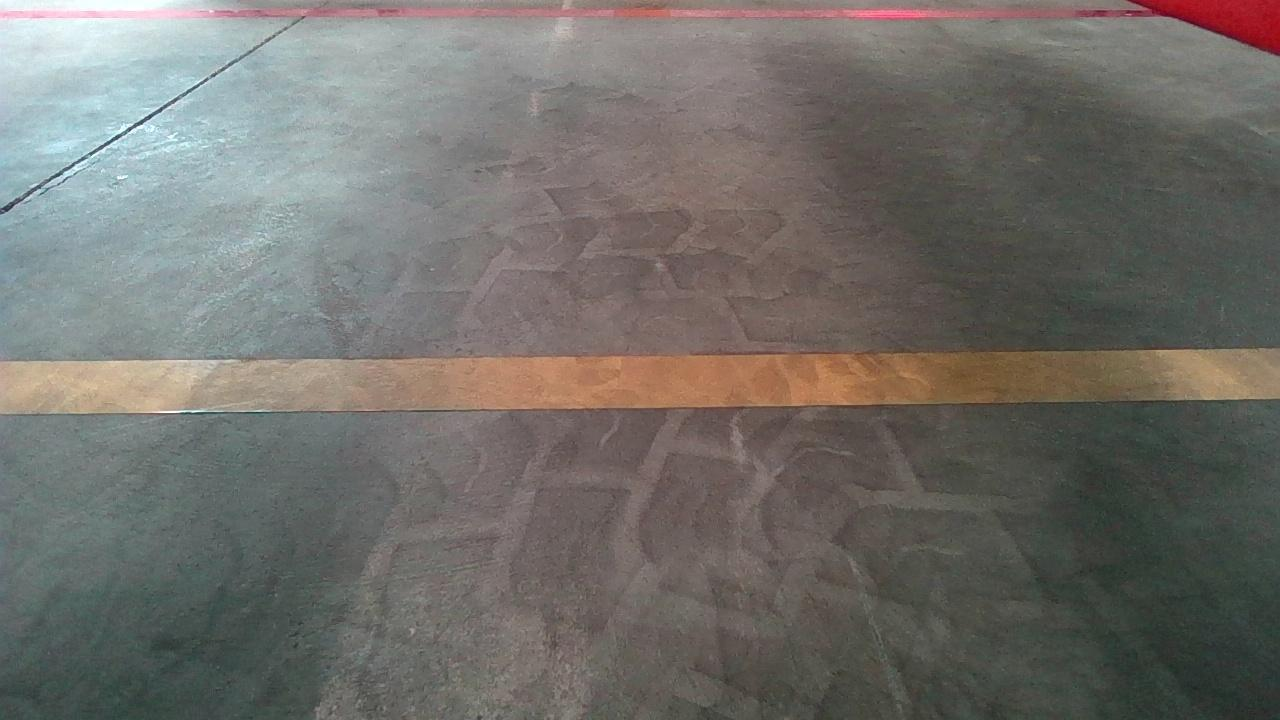red_line: (21, 1, 1138, 27)
yellow_line: (10, 344, 1280, 413)
